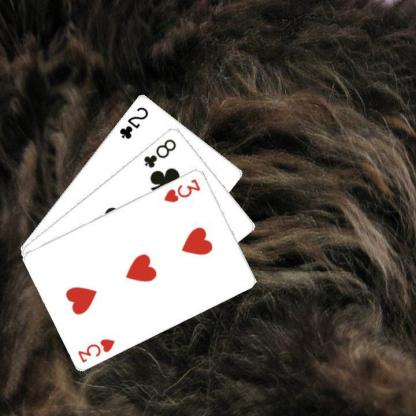2C: (116, 104, 150, 140)
3H: (161, 176, 202, 203), (75, 336, 116, 363)
8C: (141, 136, 178, 169)
